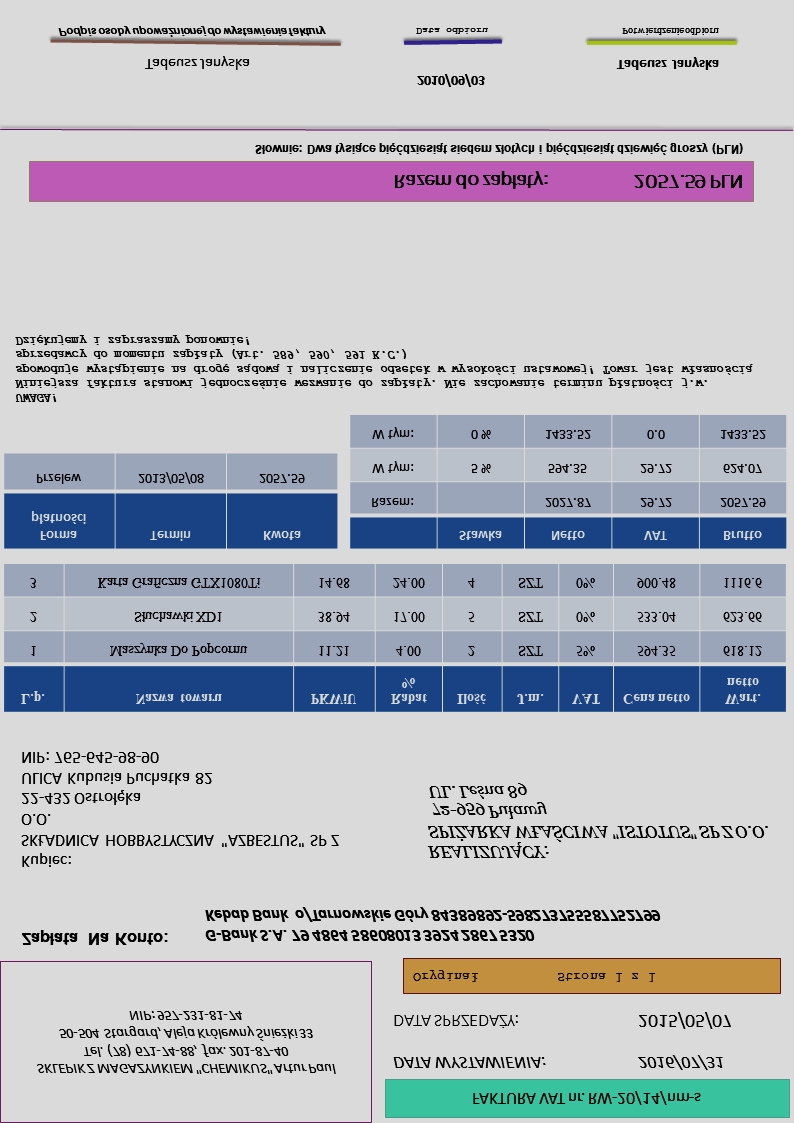Table: (2, 562, 788, 714), (348, 413, 787, 551), (2, 451, 339, 551)
TextBox: (13, 332, 758, 408), (17, 749, 342, 872), (423, 779, 772, 863), (31, 1005, 339, 1082), (201, 905, 663, 947), (251, 139, 745, 160), (390, 170, 747, 197), (468, 1086, 703, 1113), (54, 23, 329, 44), (410, 966, 660, 988), (390, 1053, 548, 1075), (390, 1009, 521, 1034), (19, 929, 169, 950), (634, 1009, 735, 1033), (615, 54, 723, 76), (142, 55, 252, 75), (634, 1053, 725, 1074), (620, 23, 721, 38), (414, 72, 487, 92), (413, 23, 490, 39)
